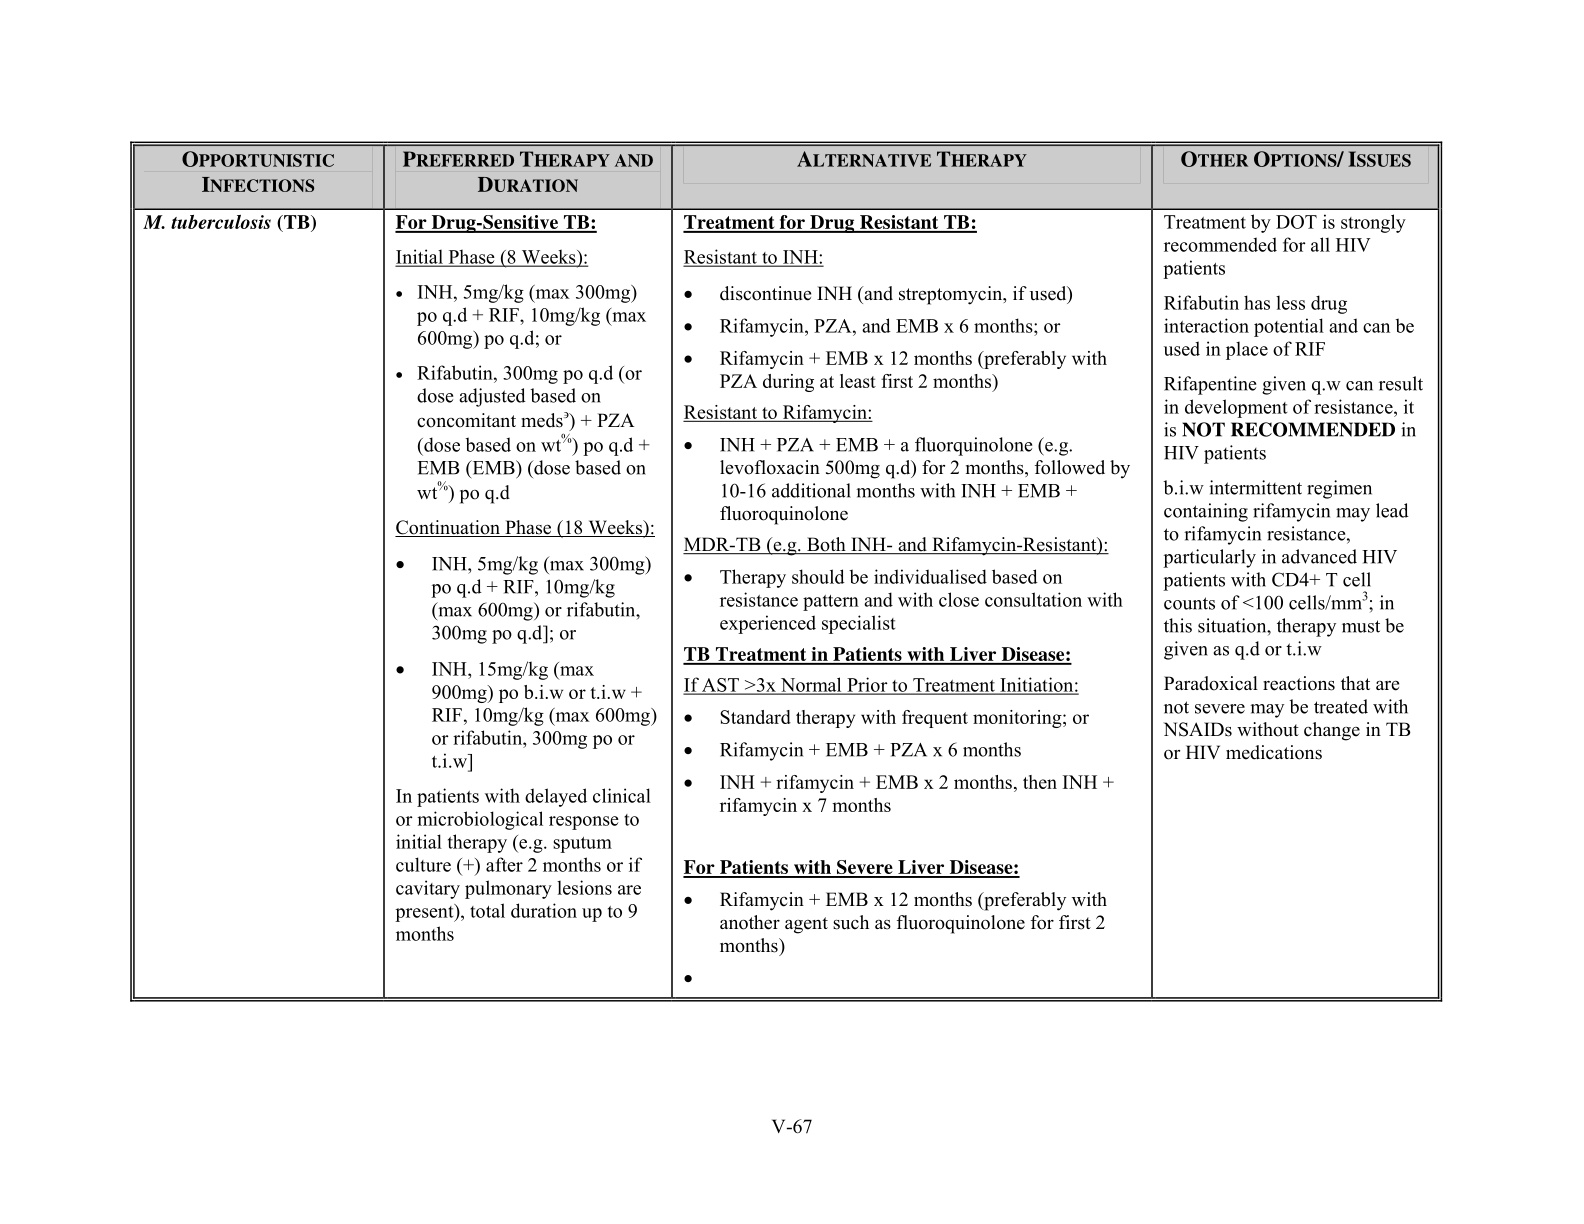full_lined: (129, 139, 1443, 1003)
